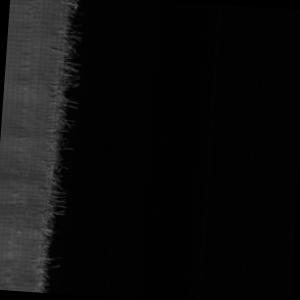Damage: (1, 1, 82, 295)
